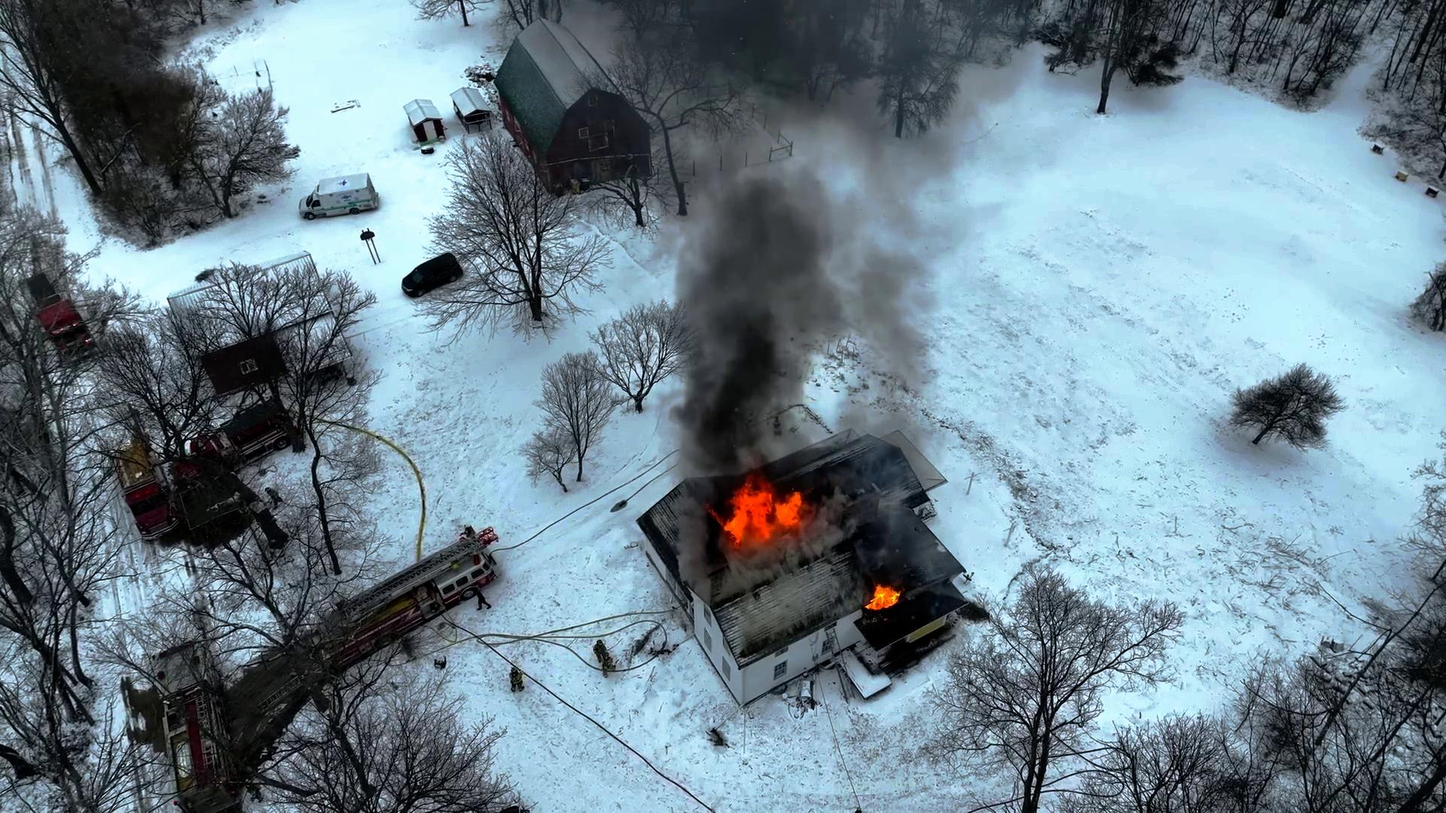fire: (721, 484, 804, 553), (863, 580, 895, 618)
smoke: (695, 222, 795, 451)
